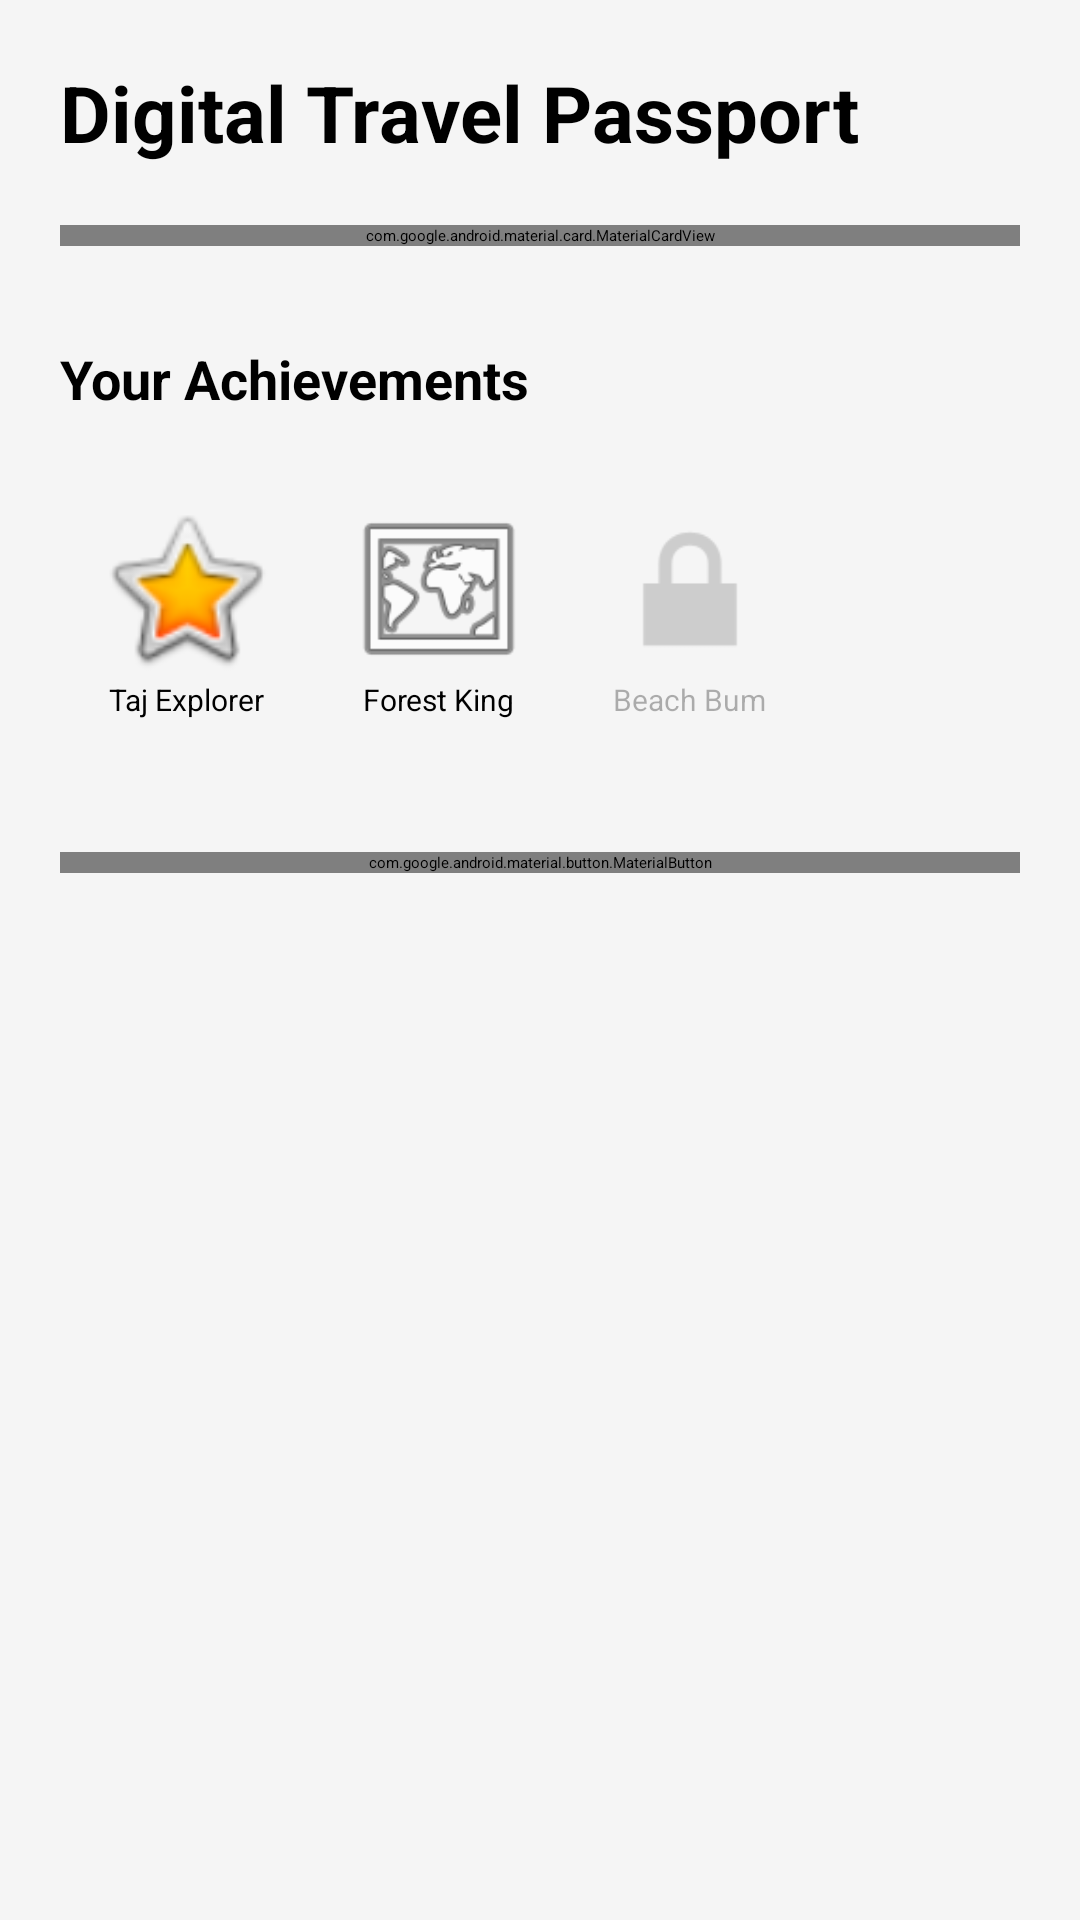

Screen size 1080w x 1920h. Icon name, then its center in pixels as (x=x, y=y):
lock: (x=690, y=589)
mapmode: (x=439, y=589)
star on: (x=187, y=590)
